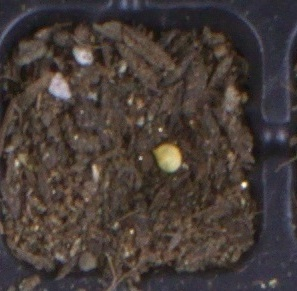chilli seed: (152, 143, 181, 172)
